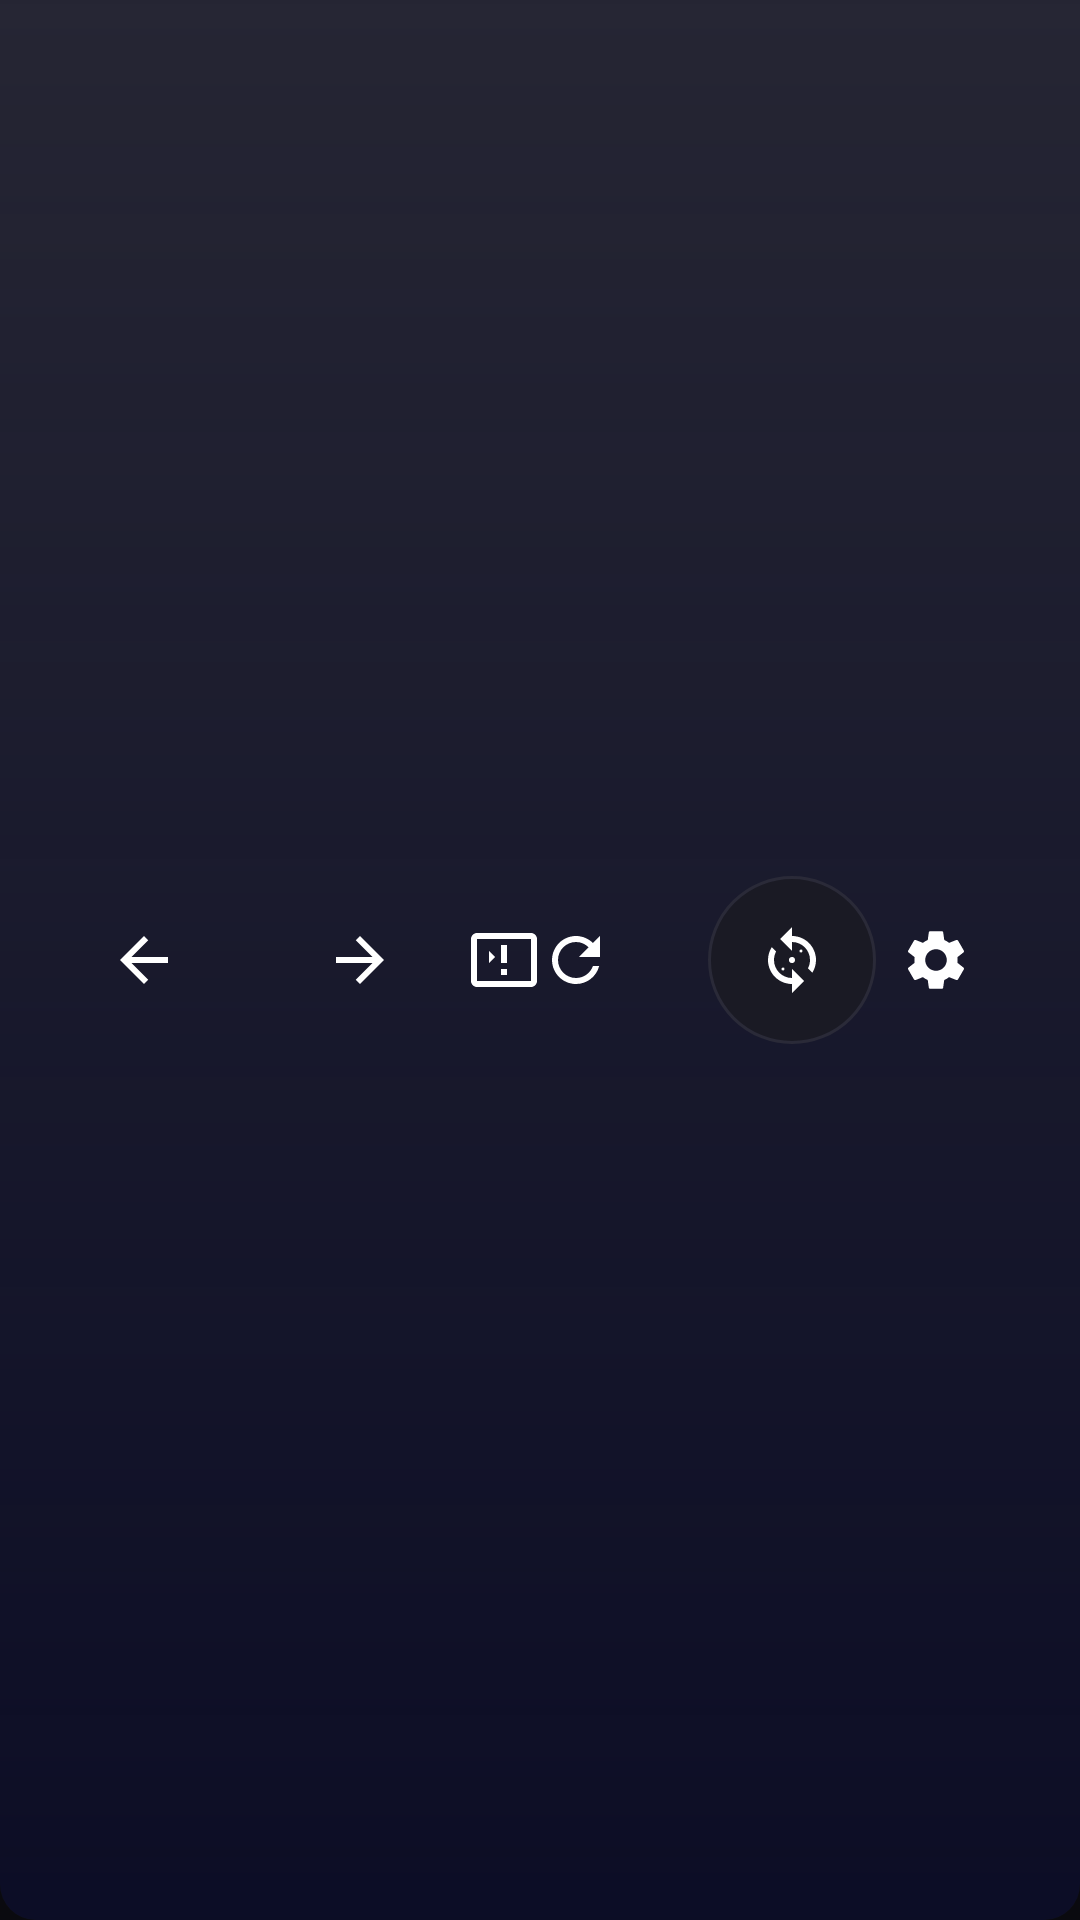

Screen size 1080w x 1920h. Icon name, then its center in pixels as (x,y):
Auto Refresh: (792,960)
Go Back: (144,960)
Go Forward: (360,960)
Settings: (936,960)
